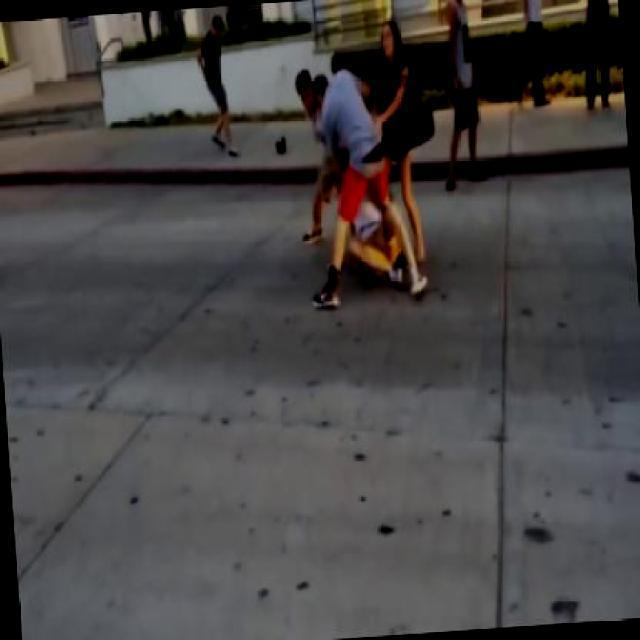fight: (289, 49, 391, 288)
non-fight: (370, 12, 436, 231), (434, 0, 491, 188), (194, 14, 240, 164)
